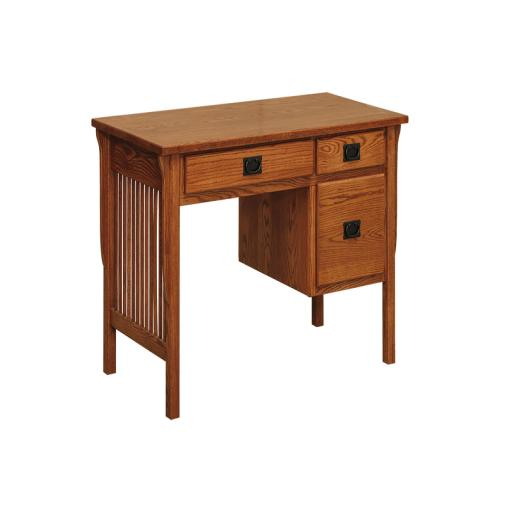desk: (92, 92, 408, 420)
